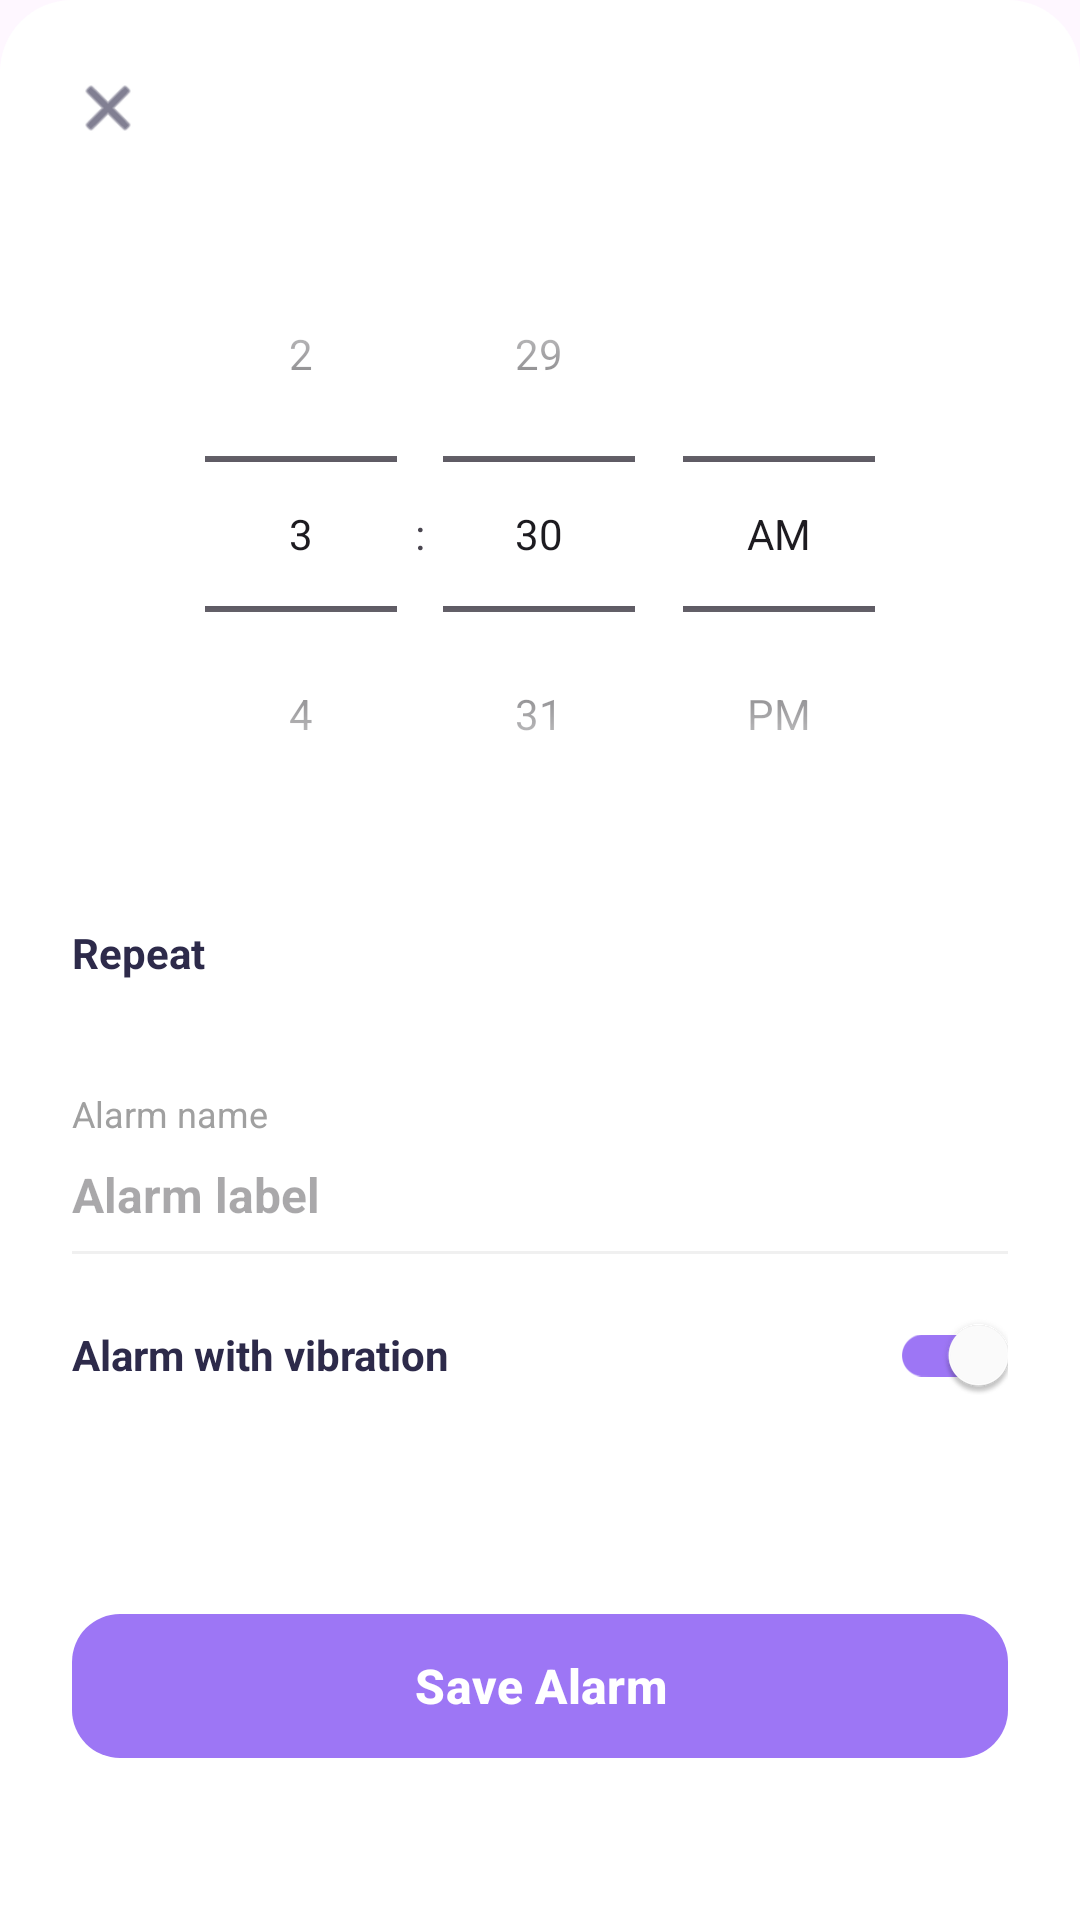

Icon click points for this 1080 x 1920 phone screenshot, format [x,y]:
close clear cancel: [108,108]
